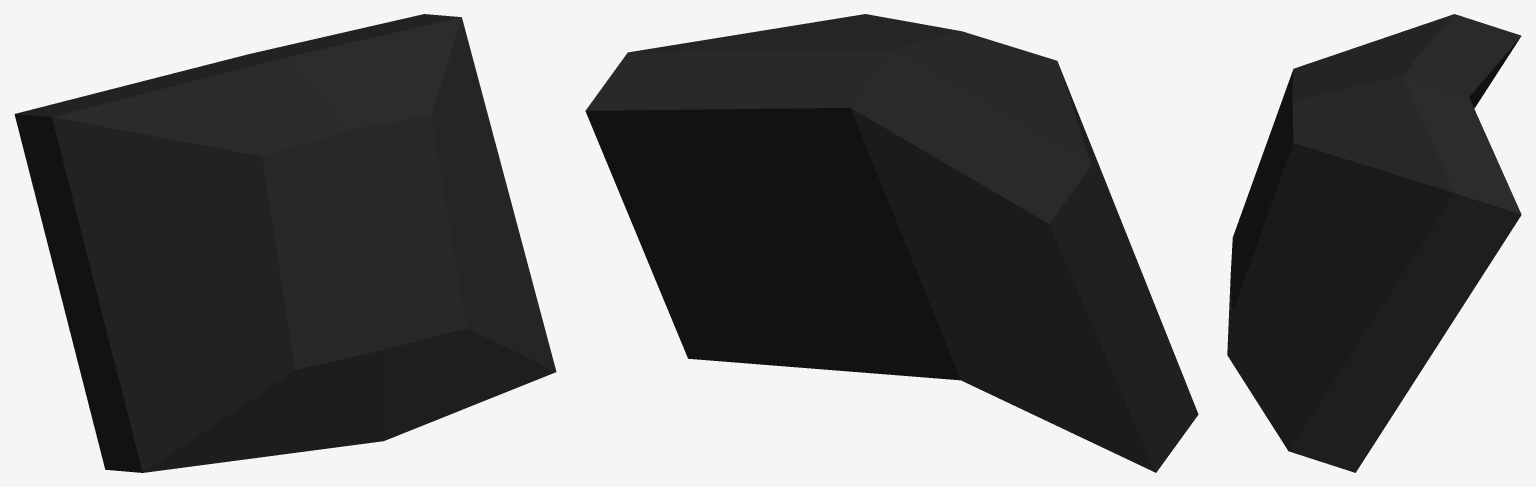
The model's file is SM_Chr_Attach_NVG_Mount_01.fbx.
3 views of the same model, side by side, from view 1: azimuth 30°, elevation 25°; view 2: azimuth 150°, elevation 25°; view 3: azimuth 270°, elevation 25° (orthographic). The views are drawn at different scales.
Visible parts, largest first — view 1: SM_Chr_Attach_NVG_Mount_01; view 2: SM_Chr_Attach_NVG_Mount_01; view 3: SM_Chr_Attach_NVG_Mount_01.
Part boxes in pixels (left/top/right/bottom): SM_Chr_Attach_NVG_Mount_01: left=14, top=14, right=556, bottom=472; SM_Chr_Attach_NVG_Mount_01: left=585, top=14, right=1198, bottom=472; SM_Chr_Attach_NVG_Mount_01: left=1227, top=14, right=1521, bottom=472.
Bounding box in the file's own units: 10.36 × 8.21 × 7.13.
